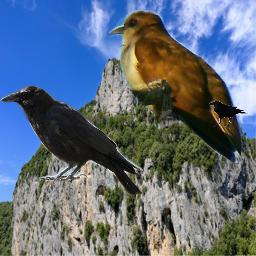Crow: (0, 85, 143, 196), (208, 101, 248, 127)
Cuckoo: (109, 10, 241, 166)
